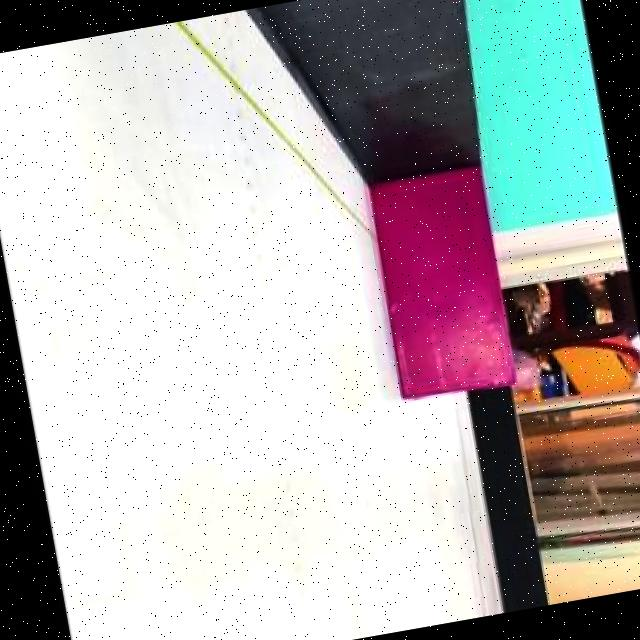xparking: (368, 170, 514, 400)
